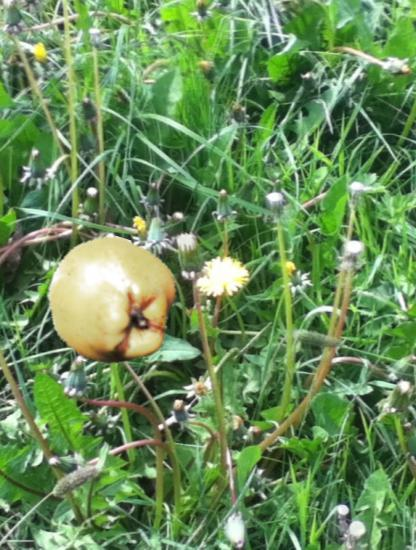Quince: (46, 237, 175, 366)
